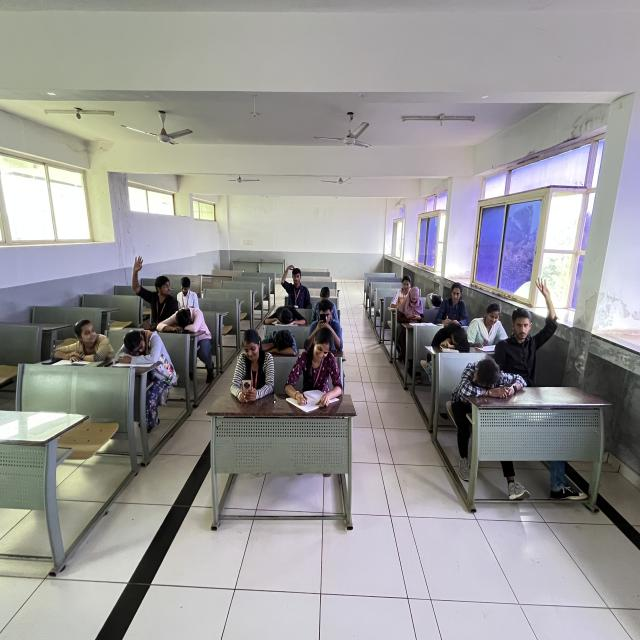Hand Rising: (495, 276, 556, 361), (118, 248, 174, 328)
Reading: (466, 294, 510, 354)
Sleeping: (451, 347, 526, 429), (121, 306, 170, 361), (160, 298, 210, 351), (258, 297, 313, 334), (432, 321, 472, 361), (260, 326, 302, 360)
Using Phone: (220, 324, 274, 410), (308, 296, 344, 357), (394, 282, 429, 334)
Writing: (288, 324, 350, 468)
